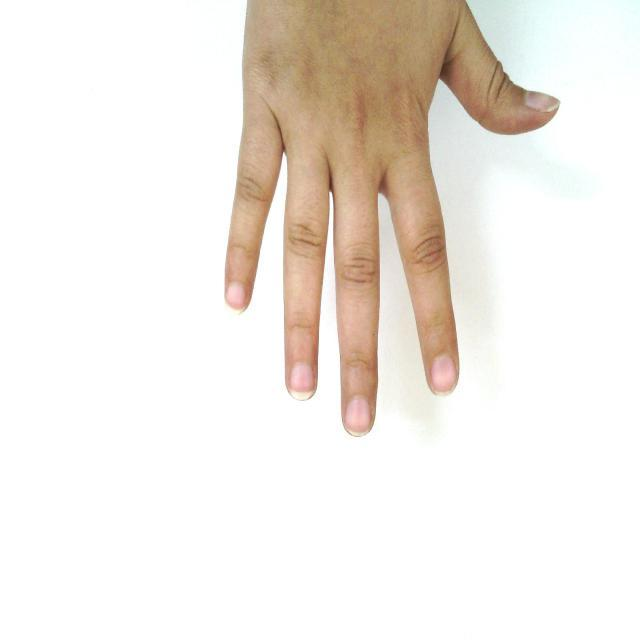Fingernail: (431, 356, 455, 395), (346, 398, 370, 436), (290, 363, 313, 399), (524, 92, 559, 112), (227, 284, 244, 309)
